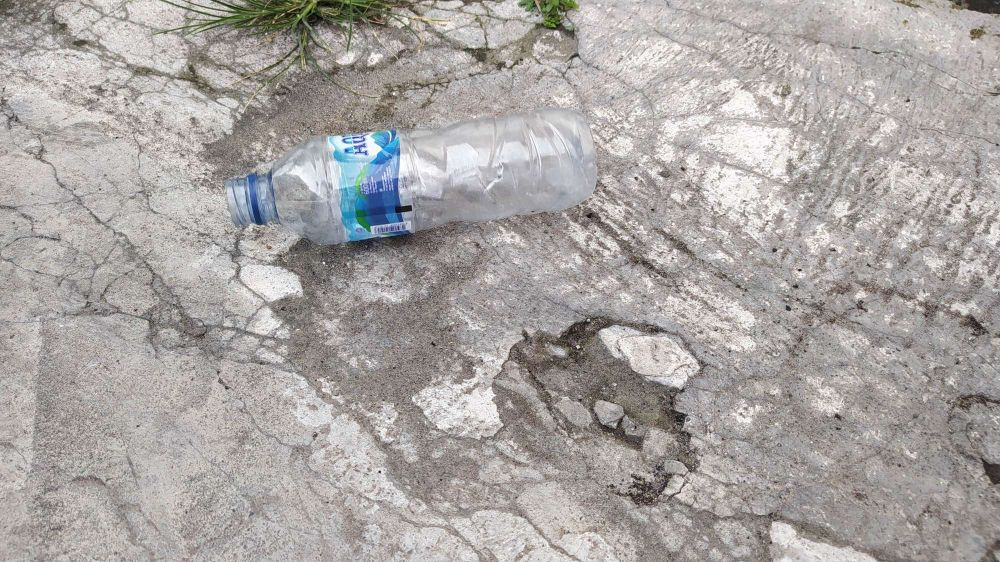botol: (180, 98, 621, 254)
